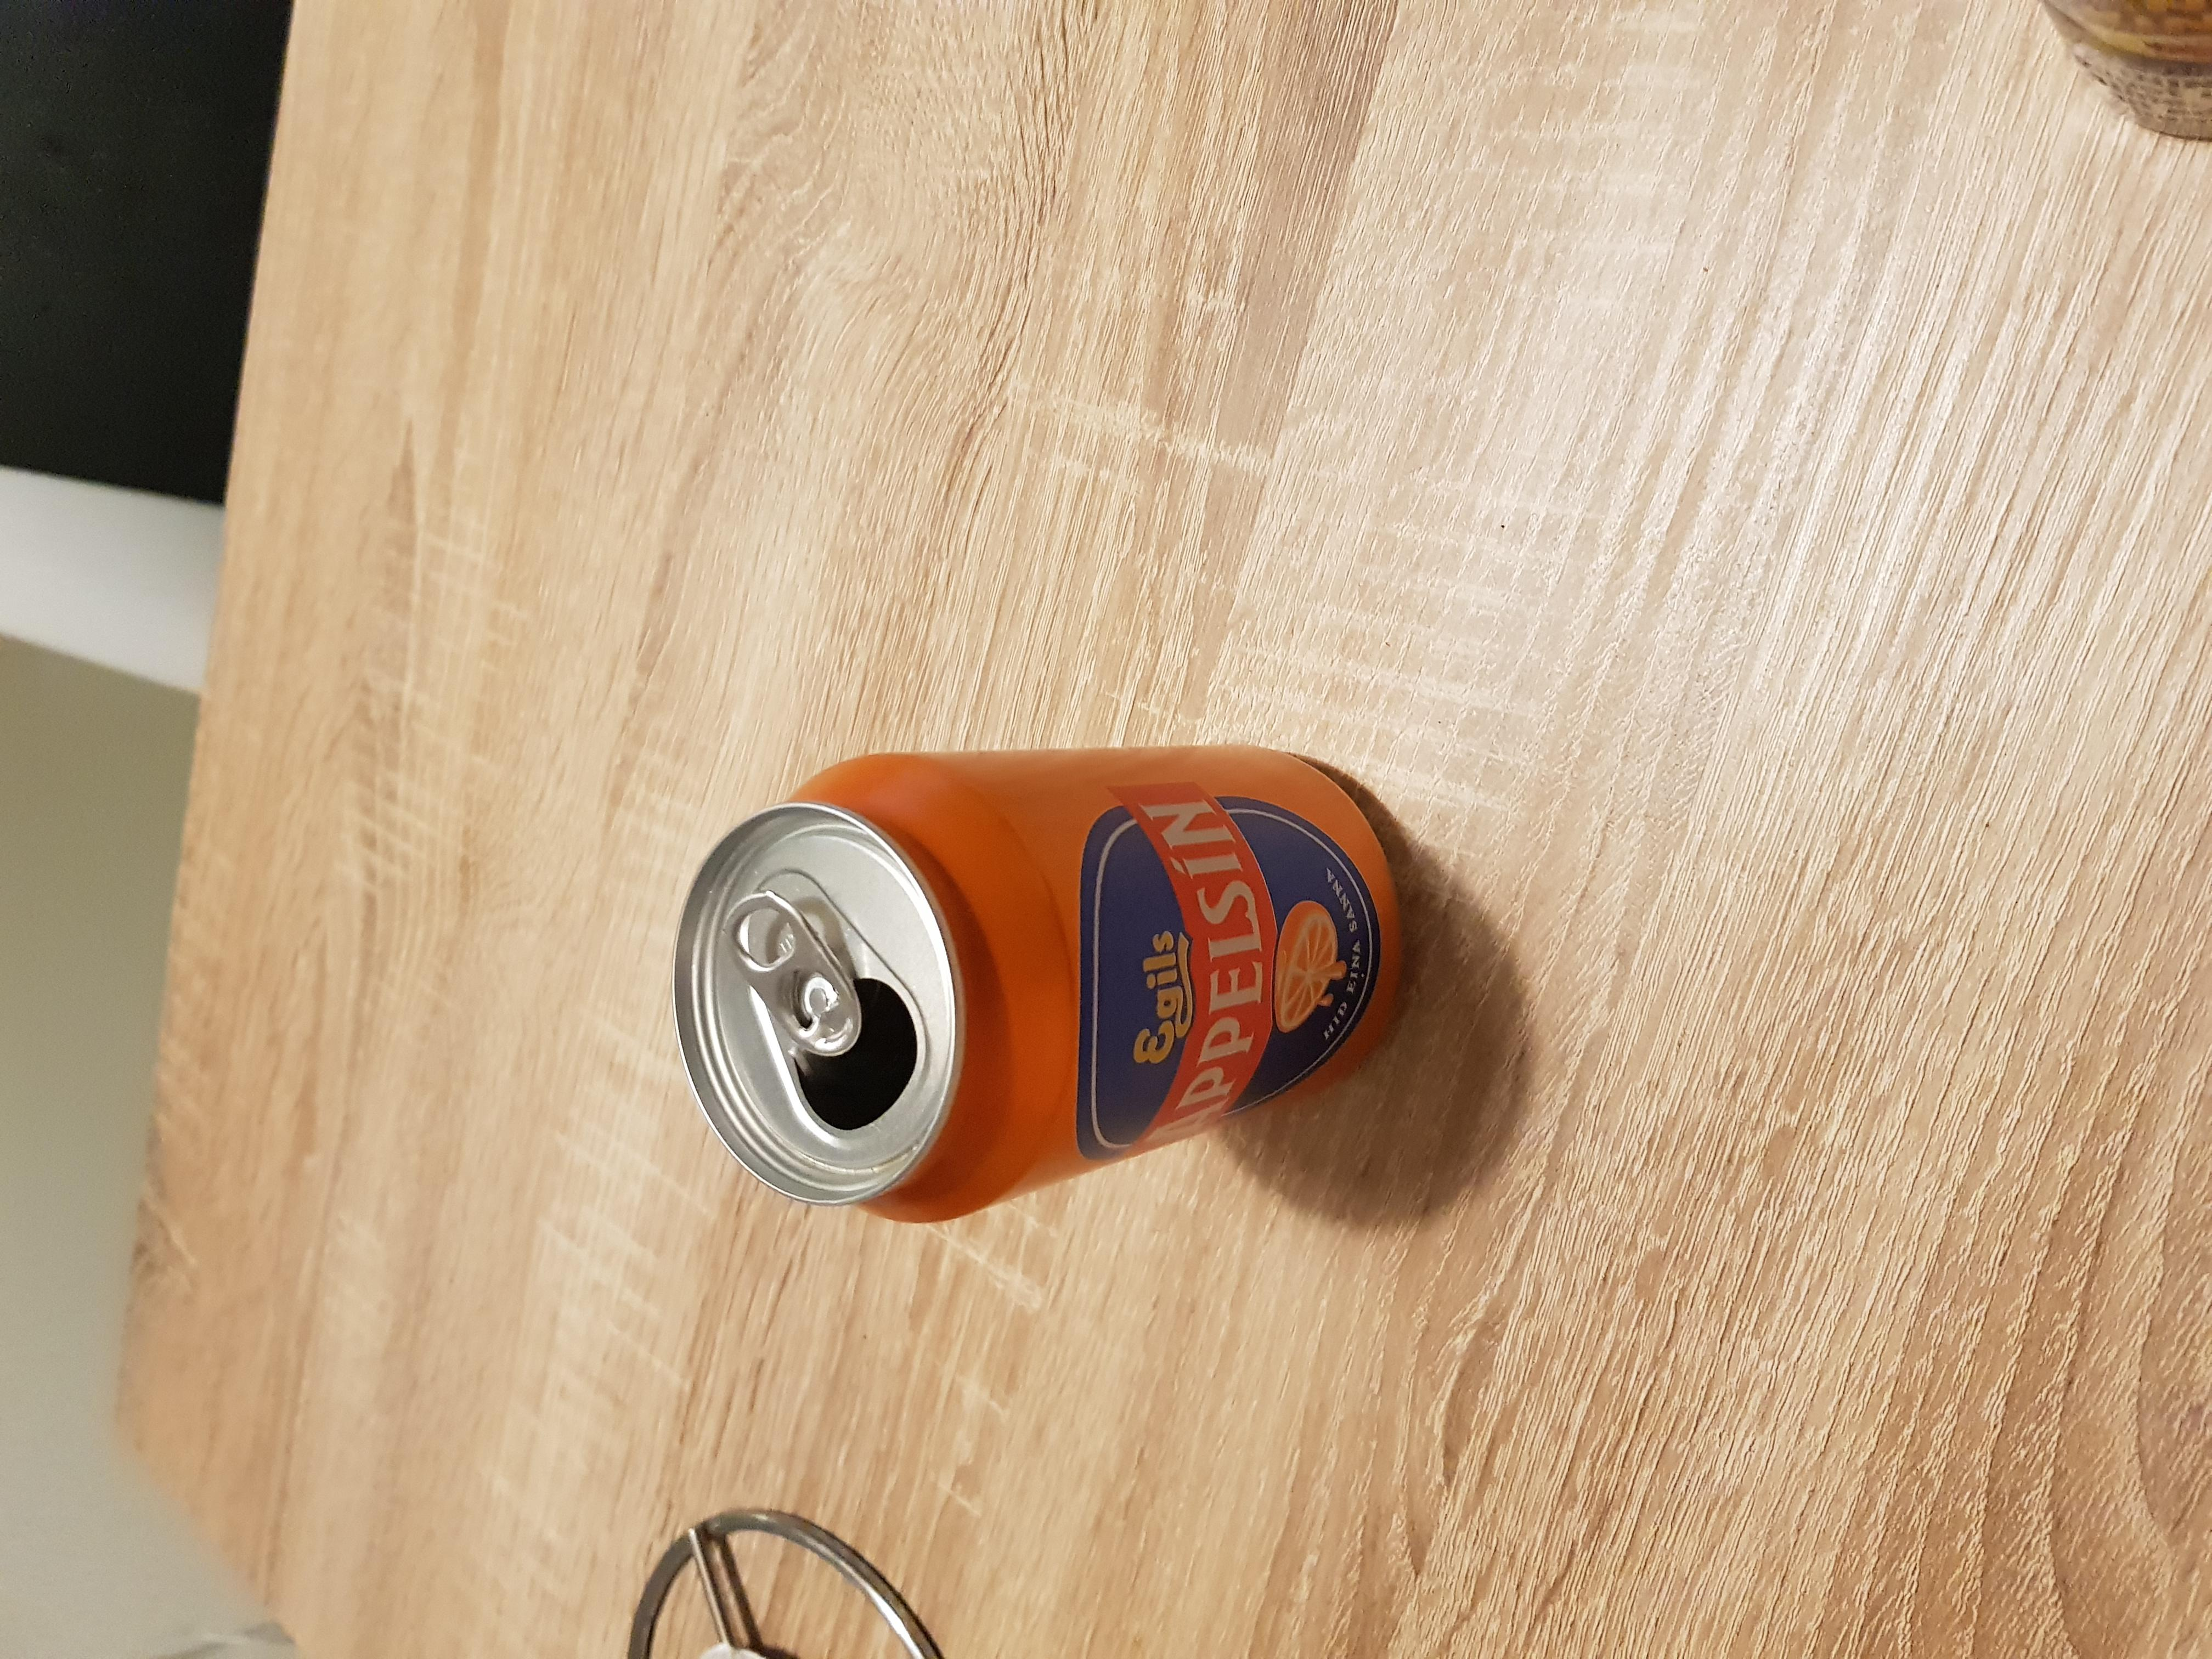Can: (664, 744, 1421, 1225)
